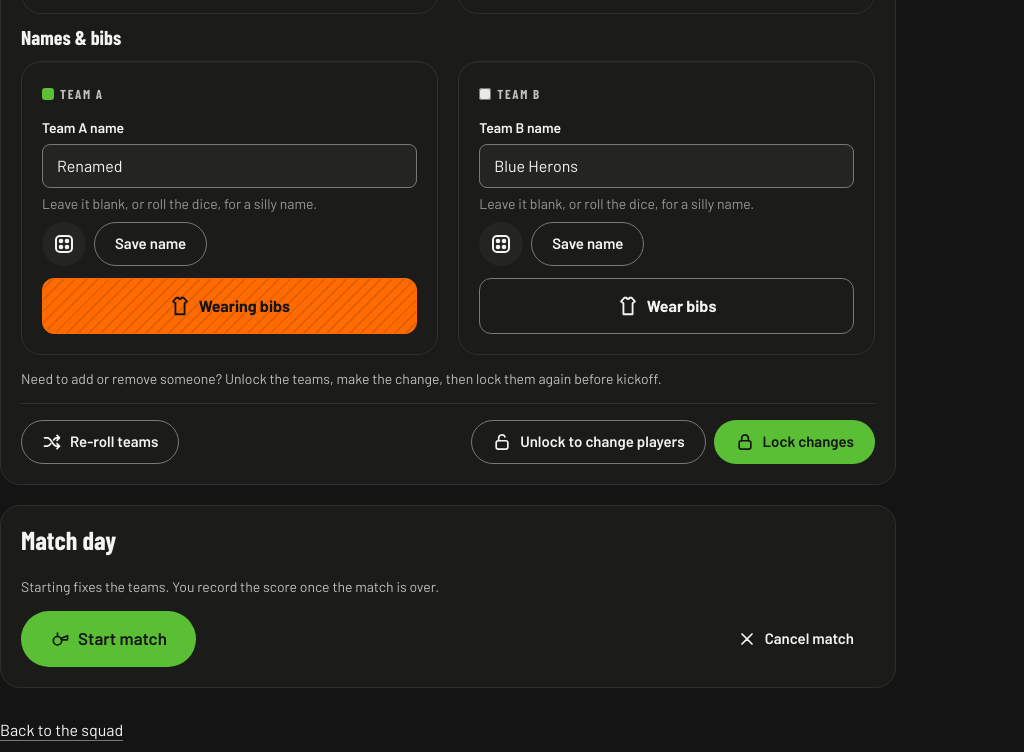
Test: MatchScreen from kick-off to the final score › does not start a match whose teams were changed after locking, and says why
(page scrolled)
Step 1. Click the button "Start match" → (108, 639), box [21,611,196,667]
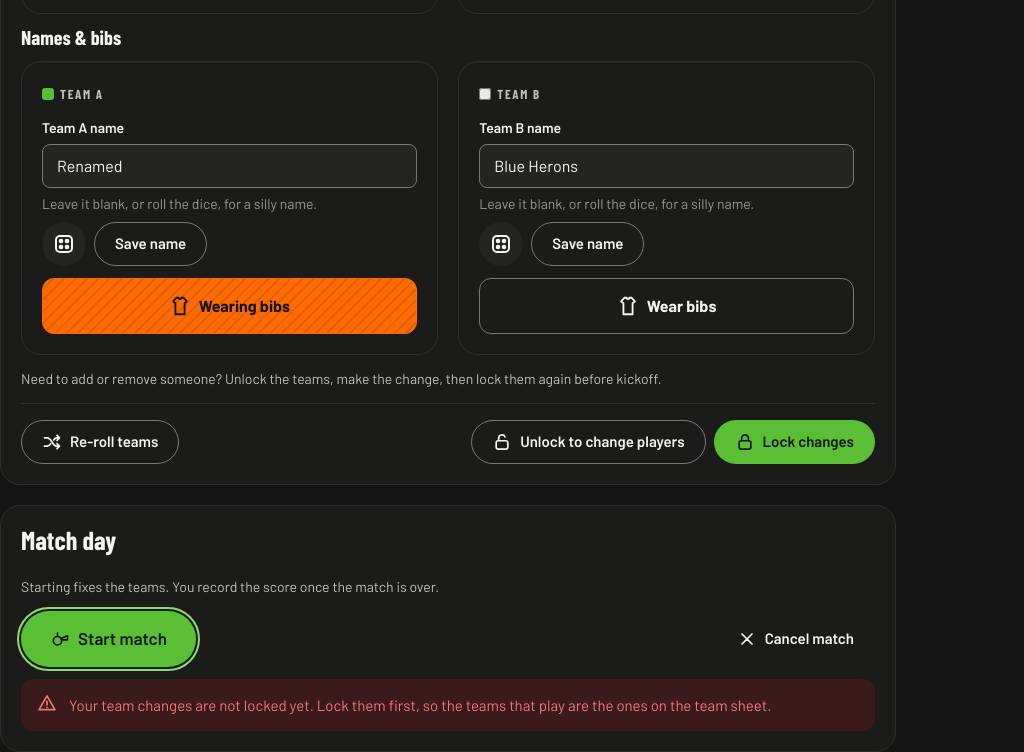
Result: the text "Your team changes are not locked yet. Lock them first, so the teams that play are the ones on the team sheet." is shown at [69,696,771,714]
